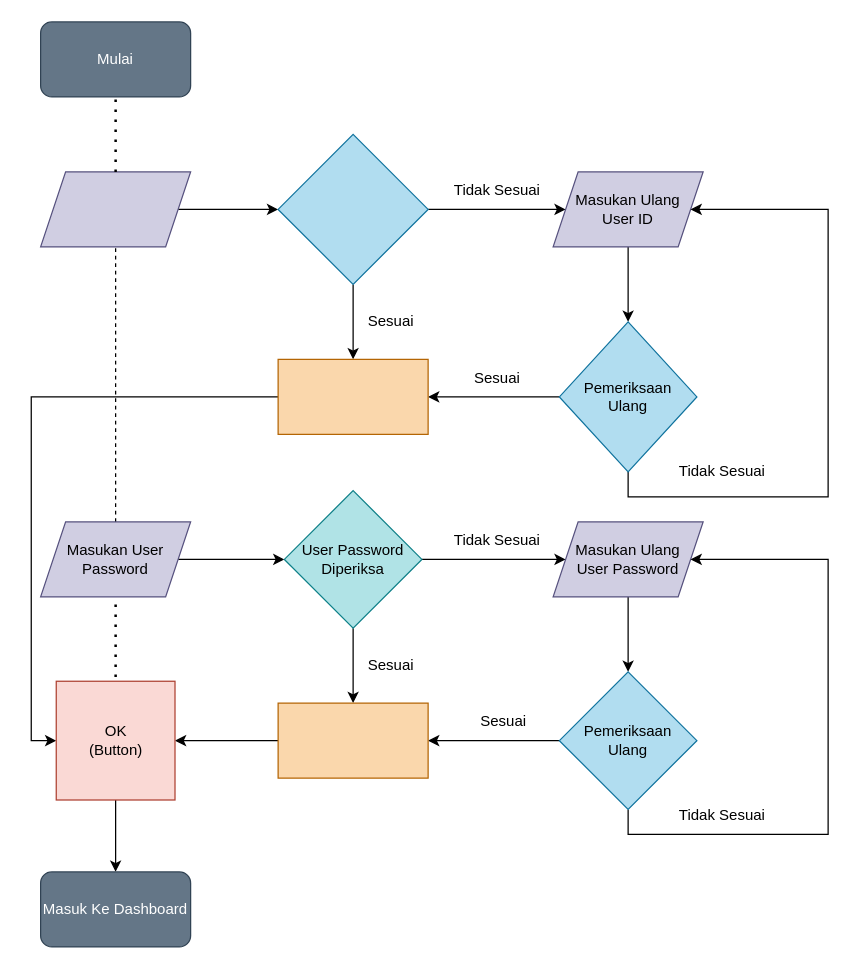
This 860x969 diagram has some shape labels left out. The shapes that lost their labels are listed below. From the top down, each one's centre as x and y in pixels, then its label:
pixel 115 209: Masukan User ID
pixel 352 208: User ID diperiksa
pixel 352 396: User ID Terverifikasi
pixel 352 740: User Password Terverifikasi
